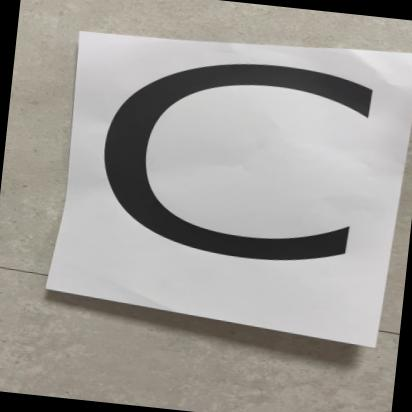seat: (46, 21, 381, 330)
